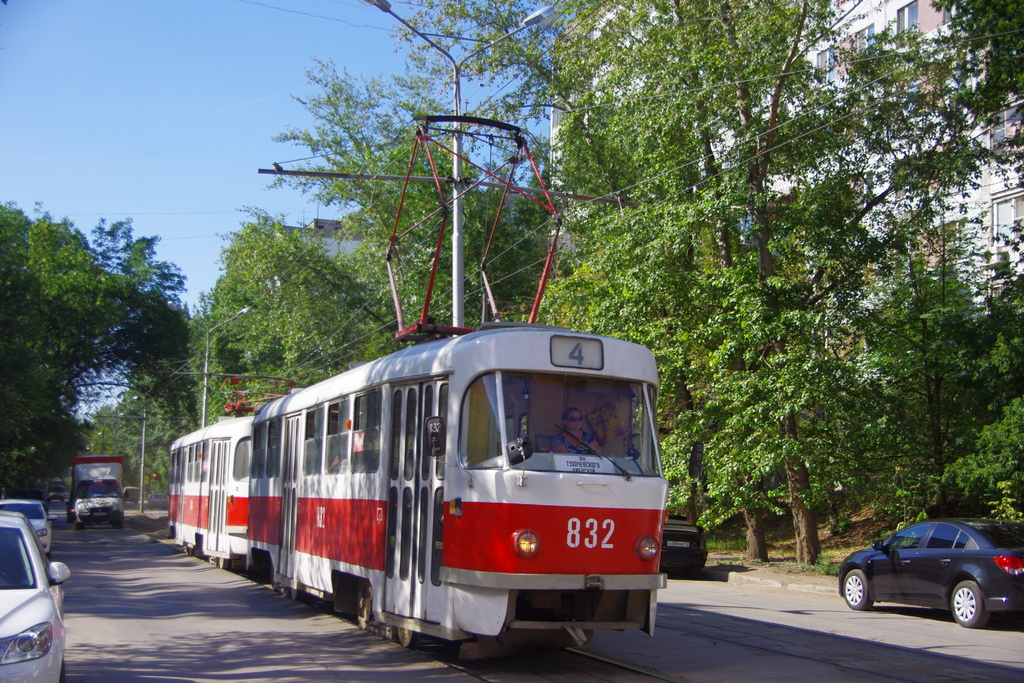train: (167, 117, 704, 656)
